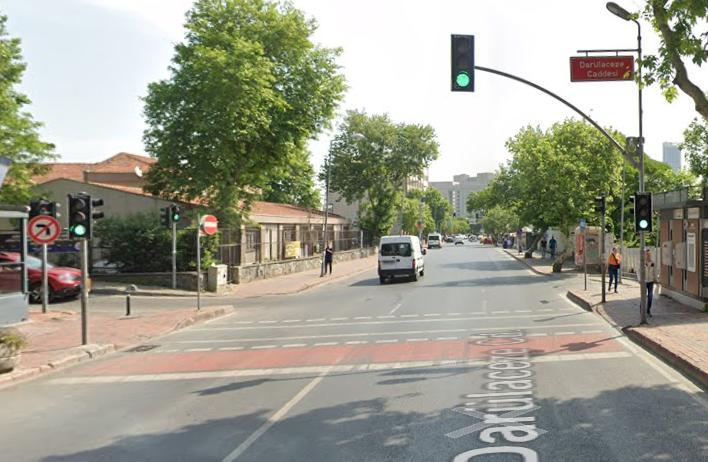greenlight: (451, 34, 472, 91), (68, 194, 88, 239), (637, 193, 649, 229)
leftturnsareforbidden: (28, 216, 59, 243)
